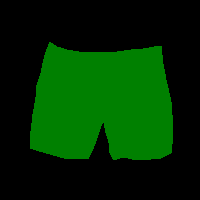mutande: (30, 41, 173, 160)
